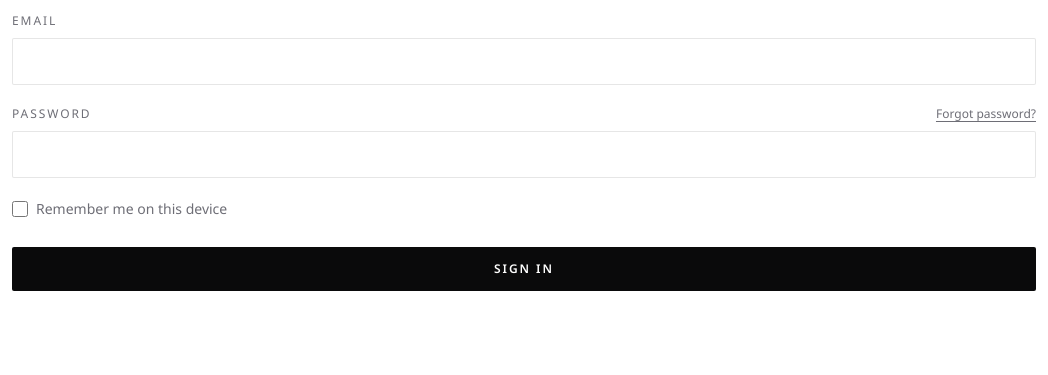
Scenario: LoginForm › submits valid credentials and shows the server error
Type "a@b.com" into the field labelled "Email". click: {"x": 524, "y": 62}
box: [12,38,1036,85]
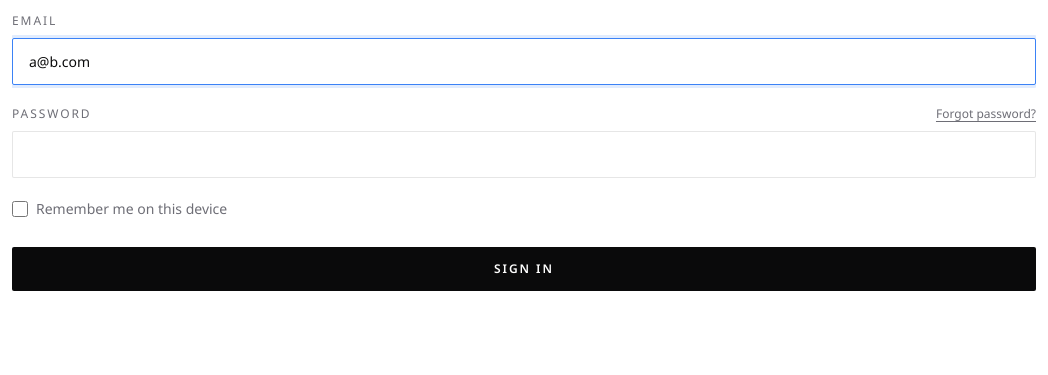
Type "password123" into the password field labelled "Password". click: {"x": 524, "y": 154}
box: [12,131,1036,178]
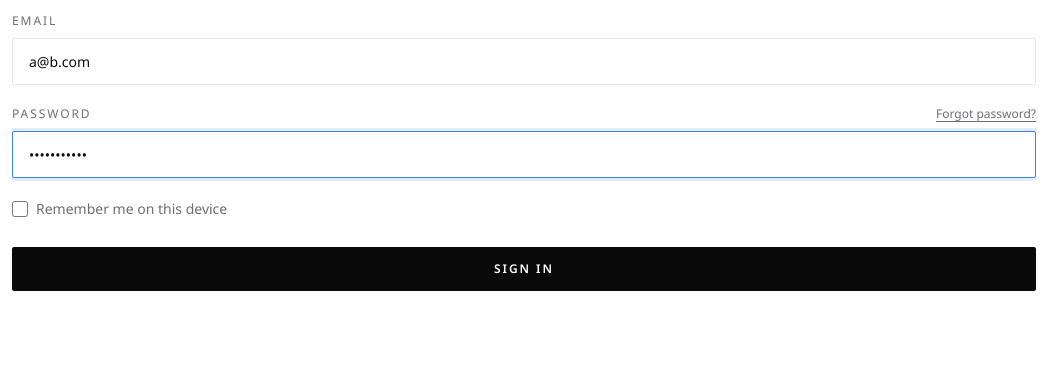
Click the button "Sign in". click: {"x": 524, "y": 269}
box: [12,247,1036,291]
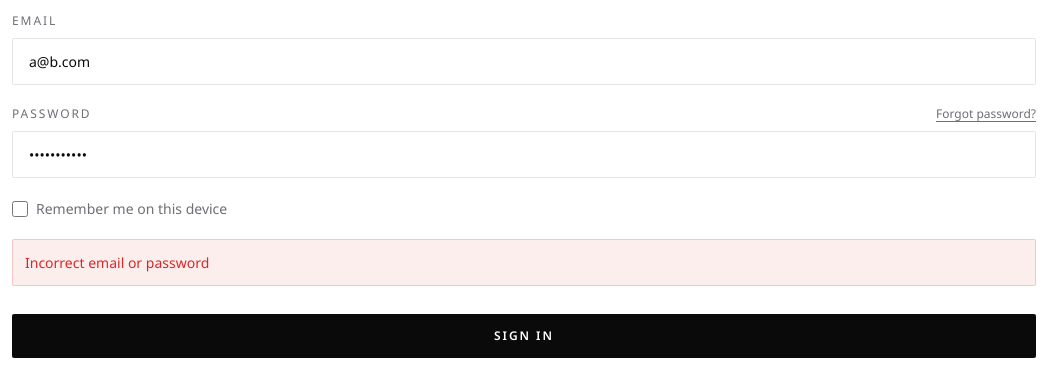
Expected: the text "Incorrect email or password" is shown, [12,239,1036,286]
